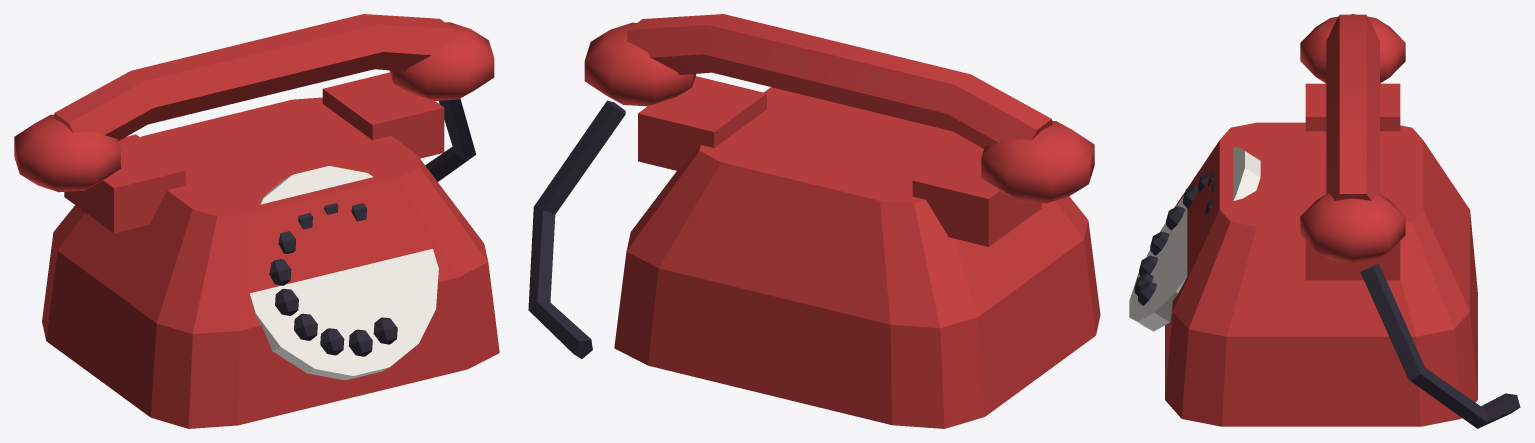
Rendered from phone-desk.glb.
3 renders of one model, left to right at view 1: azimuth 30°, elevation 25°; view 2: azimuth 150°, elevation 25°; view 3: azimuth 270°, elevation 25°, orthographic. The views are drawn at different scales.
Visible parts, largest first — view 1: Phone body, Handset, Phone dial, Phone cradle, Dial holes, Phone cord; view 2: Phone body, Handset, Phone cradle, Phone cord; view 3: Phone body, Handset, Phone cord, Phone dial, Phone cradle, Dial holes.
Boxes of the visible parts, x1,y1,x2,y2 form: Phone body: (42,97,499,428); Handset: (14,14,494,192); Phone dial: (250,166,438,380); Phone cradle: (64,72,444,233); Dial holes: (269,203,397,356); Phone cord: (425,98,476,181); Phone body: (614,87,1100,428); Handset: (584,14,1094,203); Phone cradle: (638,76,1041,246); Phone cord: (528,100,625,358); Phone body: (1165,122,1477,426); Handset: (1300,14,1405,263); Phone cord: (1360,264,1520,428); Phone dial: (1129,147,1260,331); Phone cradle: (1305,83,1400,280); Dial holes: (1134,172,1215,305).
Size of the model in its own units: 0.3391 by 0.1847 by 0.2474.
